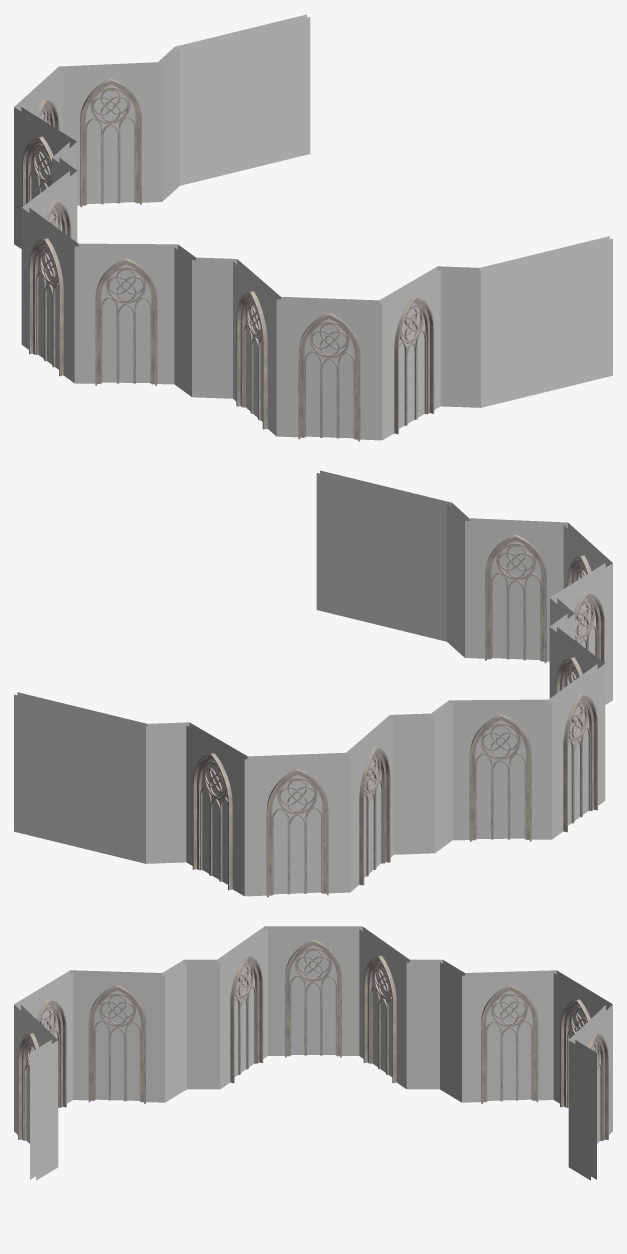
Rendered from Ambulatory_Outer_A_C.fbx.
3 views of the same model, one above another, from view 1: azimuth 30°, elevation 25°; view 2: azimuth 150°, elevation 25°; view 3: azimuth 270°, elevation 25° (orthographic). The views are drawn at different scales.
Visible parts, largest first — view 1: Ambulatory_Outer_A_C; view 2: Ambulatory_Outer_A_C; view 3: Ambulatory_Outer_A_C.
Boxes of the visible parts, bbox=[...] form: Ambulatory_Outer_A_C: bbox=[14, 14, 612, 441]; Ambulatory_Outer_A_C: bbox=[14, 470, 612, 897]; Ambulatory_Outer_A_C: bbox=[14, 926, 612, 1180].
Size of the model in its own units: 19.02 by 25.64 by 6.
